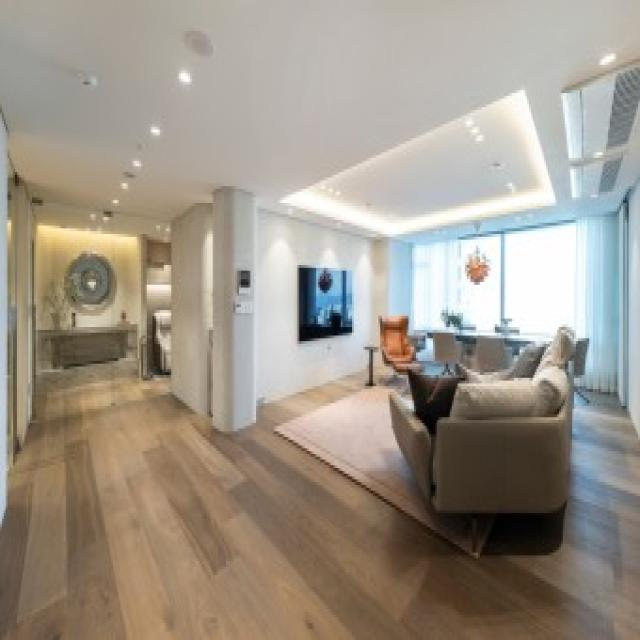Chair: (379, 312, 416, 388)
Sofa: (388, 351, 588, 543)
tv: (298, 262, 353, 345)
window: (414, 242, 578, 338)
